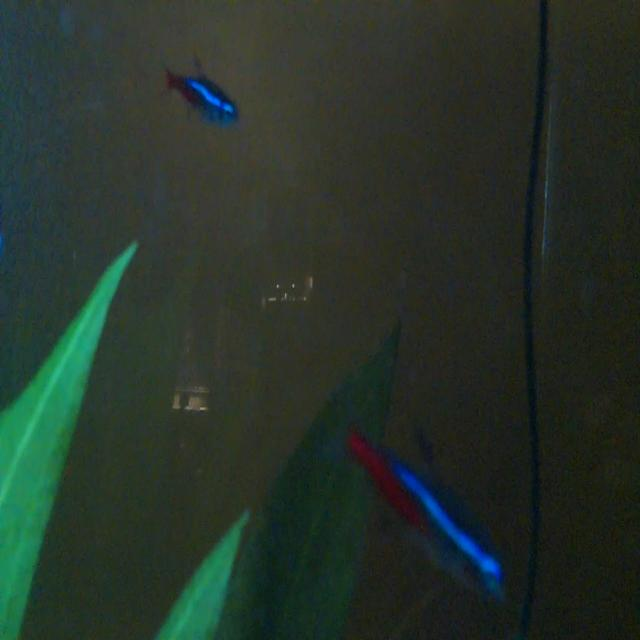fish: (158, 51, 244, 140)
